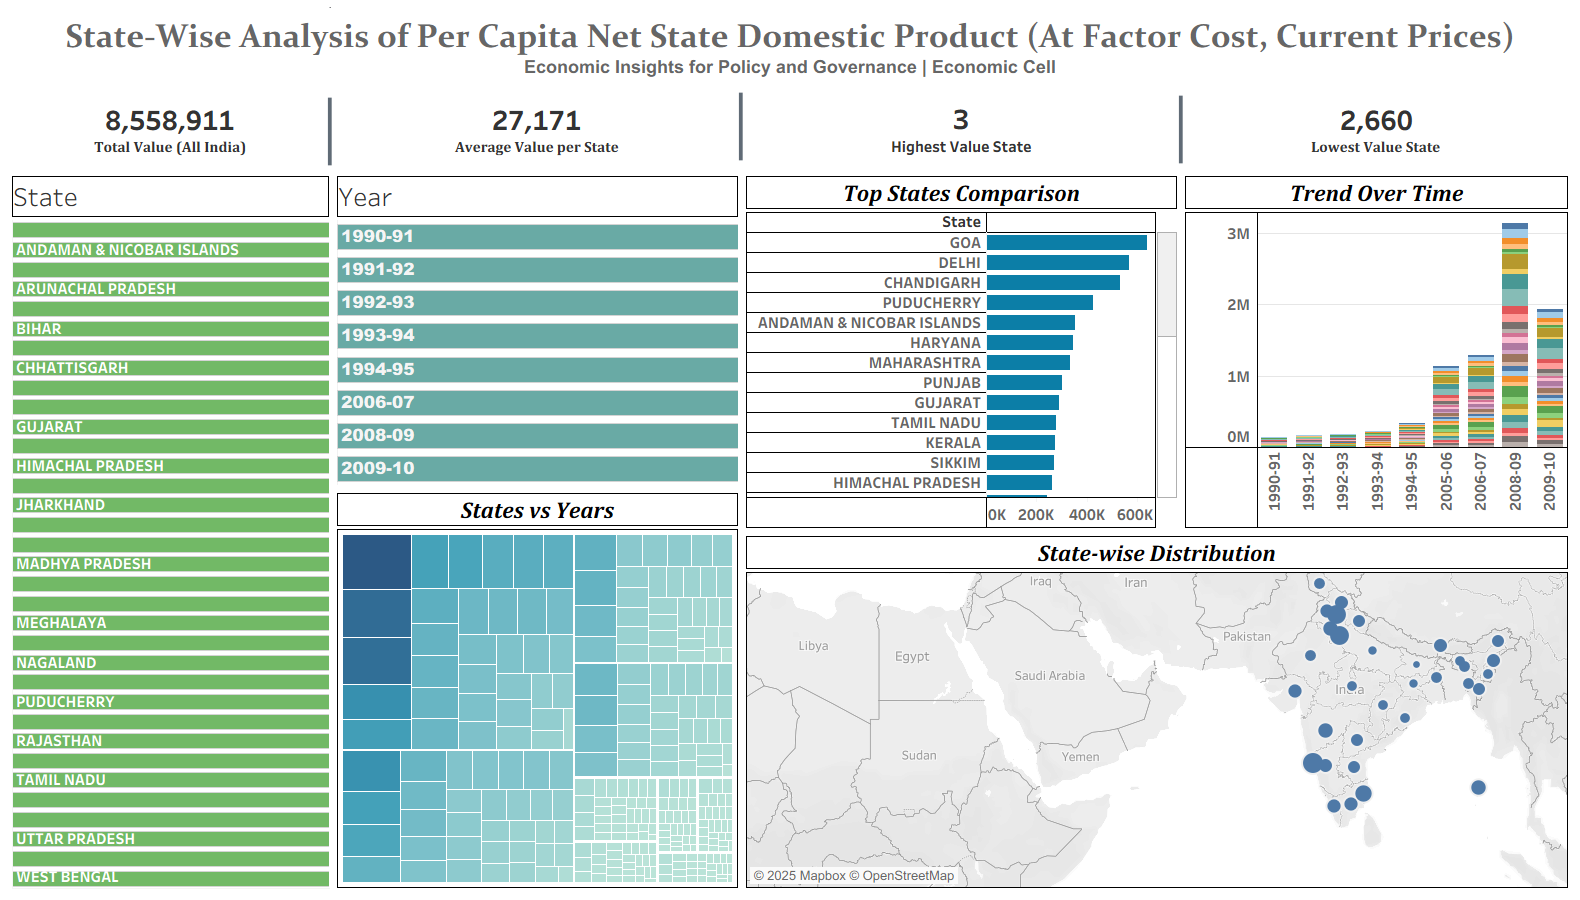

What the dashboard file says about the page in this screenshot:
{"tool":"tableau","page":{"name":"Dashboard","canvas":[1580,900],"ordinal":0},"visuals":[{"type":"image","param":"Image/Screenshot 2025-08-31 211059.png","box":[329,7,2,74]},{"type":"text","box":[8,8,1564,78]},{"type":"image","param":"Image/Screenshot 2025-08-31 210957.png","box":[332,29,2,59]},{"type":"worksheet","title":"KPI 1","mark":"Automatic","box":[8,86,325,85.7]},{"type":"worksheet","title":"KPI 2","mark":"Automatic","box":[333,86,409,85.7]},{"type":"worksheet","title":"KPI 3","mark":"Automatic","box":[742,86,439,85.7]},{"type":"worksheet","title":"KPI 4","mark":"Automatic","box":[1181,86,391,85.7]},{"type":"text","box":[726,96,45,69]},{"type":"text","box":[1166,99,45,69]},{"type":"text","box":[315,101,45,69]},{"type":"worksheet","title":"State","mark":"Automatic","rows":["State"],"cols":["Calculation_1309984590024736776"],"box":[8,171.7,325.3,720.3]},{"type":"worksheet","title":"Year","mark":"Automatic","rows":["Year"],"cols":["Calculation_1309984590022782982"],"box":[333.3,171.7,408.8,317.3]},{"type":"worksheet","title":"Top States Comparison","mark":"Automatic","rows":["State"],"cols":["Value"],"box":[742.1,171.7,438.9,360.2]},{"type":"worksheet","title":"Trend Over Time","mark":"Automatic","rows":["Value"],"cols":["Year"],"box":[1181,171.7,391,360.2]},{"type":"worksheet","title":"States vs Years","mark":"Automatic","box":[333.3,489,408.8,403]},{"type":"worksheet","title":"State-wise Distribution","mark":"Automatic","box":[742.1,531.9,829.9,360.1]}]}

Visuals, with their boxes in screenshot pixels (x1, y1, x2, y2), scaled from the page's 1580x900 canvas onto the 1580x900 screenshot:
image: [329, 7, 331, 81]
text: [8, 8, 1572, 86]
image: [332, 29, 334, 88]
"KPI 1" worksheet: [8, 86, 333, 172]
"KPI 2" worksheet: [333, 86, 742, 172]
"KPI 3" worksheet: [742, 86, 1181, 172]
"KPI 4" worksheet: [1181, 86, 1572, 172]
text: [726, 96, 771, 165]
text: [1166, 99, 1211, 168]
text: [315, 101, 360, 170]
"State" worksheet: [8, 172, 333, 892]
"Year" worksheet: [333, 172, 742, 489]
"Top States Comparison" worksheet: [742, 172, 1181, 532]
"Trend Over Time" worksheet: [1181, 172, 1572, 532]
"States vs Years" worksheet: [333, 489, 742, 892]
"State-wise Distribution" worksheet: [742, 532, 1572, 892]
